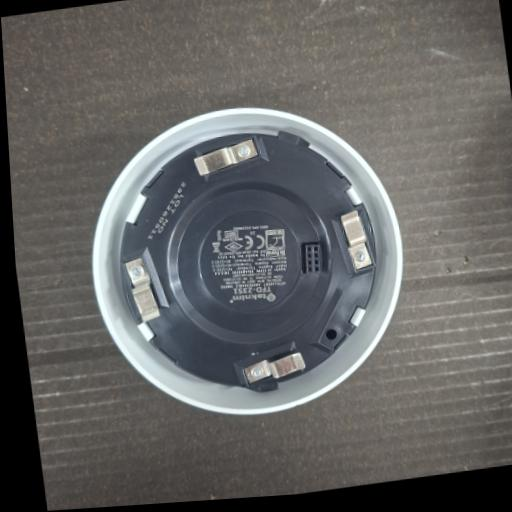yaysiz: (230, 338, 311, 395), (117, 245, 171, 328), (330, 205, 379, 282), (189, 137, 262, 178)
